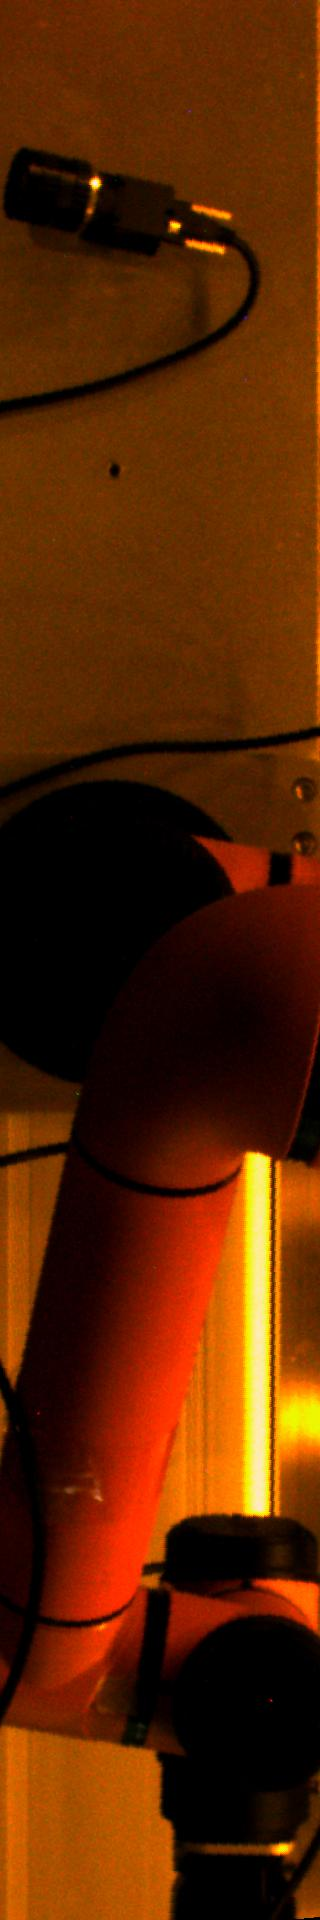keyPoint_2: (99, 457, 129, 487)
